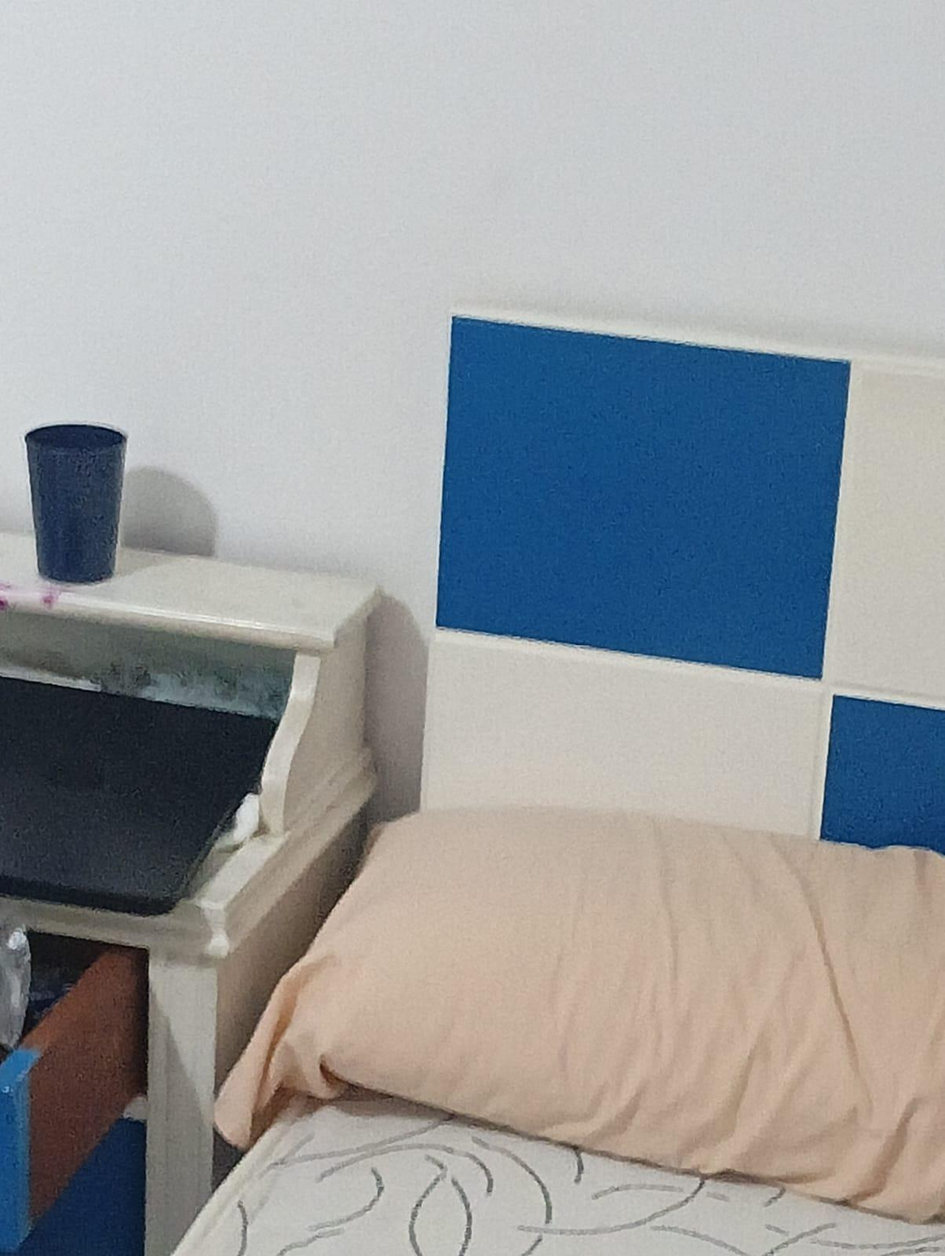cup: (25, 425, 126, 582)
